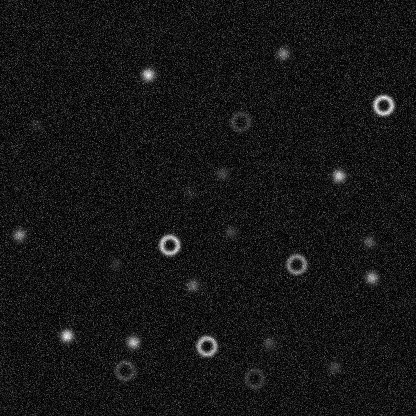Ring: (242, 366, 266, 390), (228, 109, 252, 133), (284, 252, 308, 276), (157, 232, 181, 256), (112, 358, 136, 382), (194, 333, 218, 357), (371, 93, 395, 117)
Spot: (363, 269, 379, 285), (124, 334, 140, 350), (274, 45, 290, 61), (326, 358, 342, 374), (214, 165, 230, 181), (222, 223, 238, 239), (11, 226, 27, 242), (107, 255, 123, 271), (139, 66, 155, 82), (180, 184, 196, 200), (58, 327, 74, 343), (261, 335, 277, 351), (28, 116, 44, 132), (330, 167, 346, 183), (184, 277, 200, 293), (360, 233, 376, 249)
